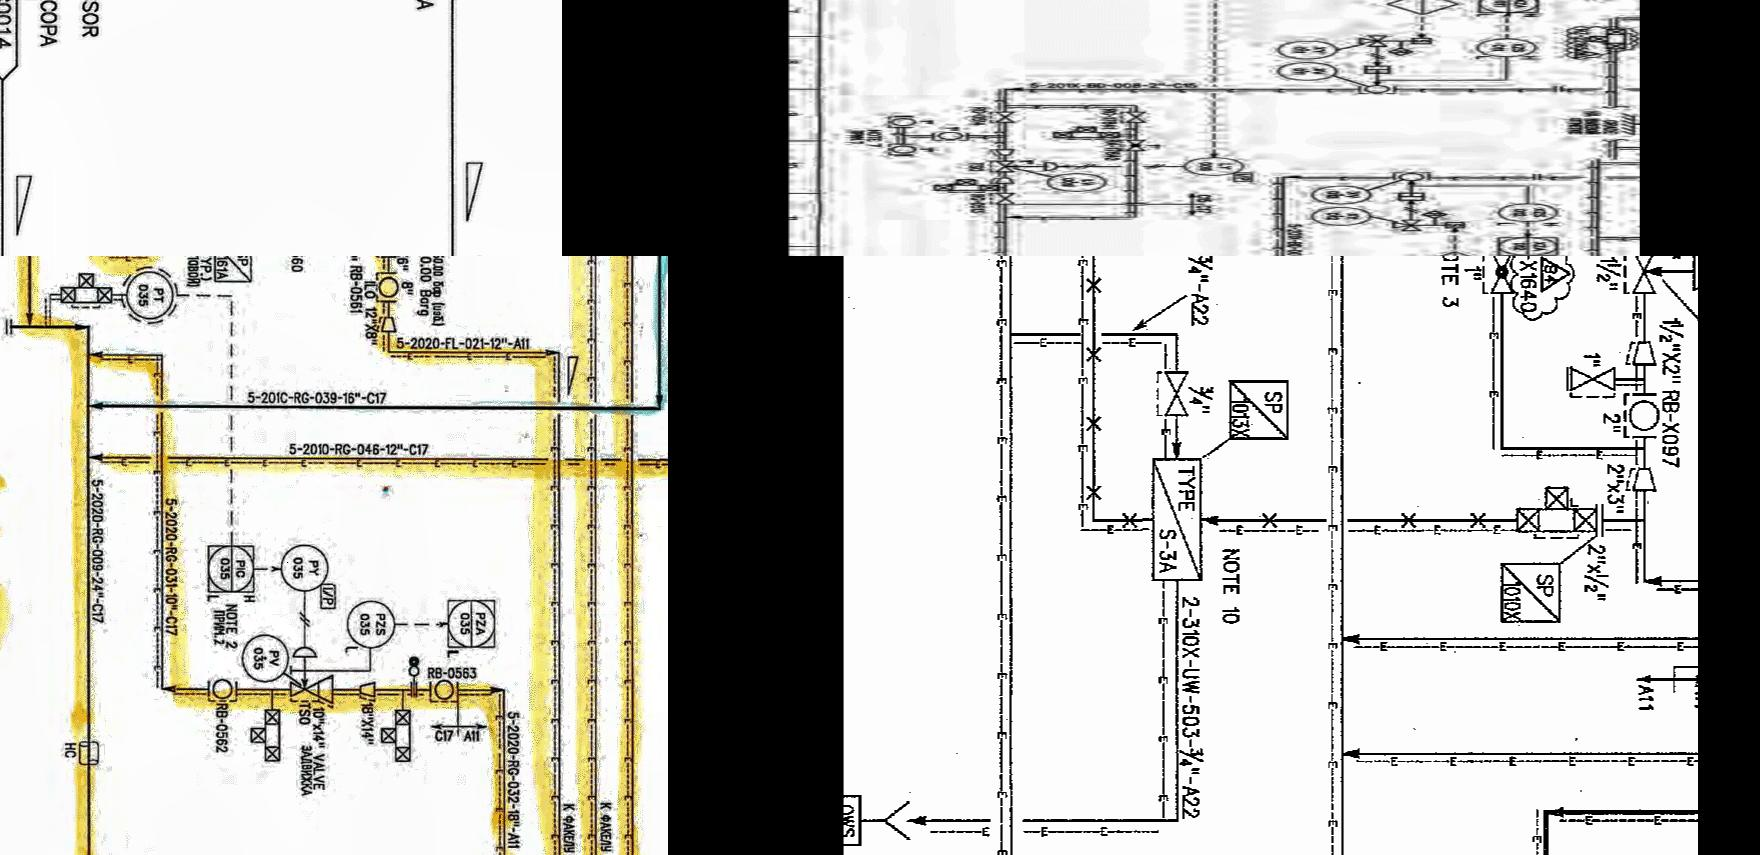2 WAY VALVE: (1511, 484, 1597, 542), (53, 269, 117, 314), (244, 708, 284, 772), (375, 707, 416, 767), (911, 26, 972, 54)
3 WAY GENERAL VALVE: (714, 218, 762, 233), (684, 34, 727, 48)
CONCENTRIC REDUCER: (1625, 331, 1661, 373), (1628, 458, 1659, 496), (378, 309, 398, 342), (354, 680, 378, 701), (374, 256, 397, 267)
DCS ACCESSIBLE: (202, 534, 263, 600), (441, 595, 505, 653), (823, 235, 896, 256), (804, 0, 877, 15)
DUPLEX RECEPTACLE: (73, 738, 104, 770)
END CAP: (290, 640, 320, 664), (288, 641, 315, 665)
END FLANGED: (0, 316, 24, 343), (859, 173, 882, 182)
FIELD INSTRUMENT: (118, 265, 181, 328), (342, 594, 398, 649), (279, 545, 332, 594), (238, 634, 286, 687), (1621, 396, 1661, 435), (823, 202, 896, 222), (806, 37, 869, 58), (368, 274, 398, 304), (668, 206, 712, 227), (668, 185, 706, 204), (207, 675, 233, 702), (428, 678, 453, 705), (719, 172, 764, 182), (685, 85, 730, 94)
GATE VALVE: (1156, 365, 1193, 422), (1566, 360, 1620, 398), (1623, 256, 1661, 300)
GLOBE VALVE: (1486, 256, 1512, 298)
HARDWIRED INTERLOCK FIELD: (716, 42, 750, 59), (752, 208, 780, 223)
HARDWIRED INTERLOCK PRIMARY.: (713, 0, 792, 15), (750, 249, 826, 256)
REVISION TRIANGLE: (1537, 256, 1573, 289)
SPECIAL PIPING ITEM: (1143, 456, 1209, 590), (1223, 371, 1294, 445), (1494, 557, 1564, 626), (202, 256, 256, 289)
SPECTACLE BLIND OPEN: (402, 651, 420, 710)
SPEED FLOW METER: (764, 221, 807, 229), (731, 37, 768, 46)
TUNDISH OPEN: (863, 787, 914, 854)
